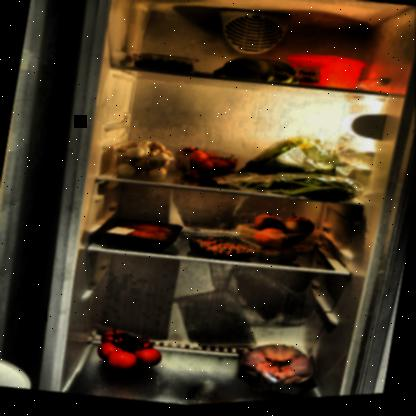banana: (210, 54, 302, 96)
beef: (106, 214, 175, 251)
blueberries: (125, 48, 192, 82)
butter: (280, 52, 374, 99)
chicken: (232, 336, 328, 404)
green_beans: (215, 160, 369, 216)
mushrooms: (111, 135, 180, 189)
onion: (247, 209, 317, 260)
shrimp: (186, 231, 259, 268)
spinach: (233, 126, 360, 201)
strawberries: (167, 143, 242, 191)
tomato: (94, 323, 170, 381)
